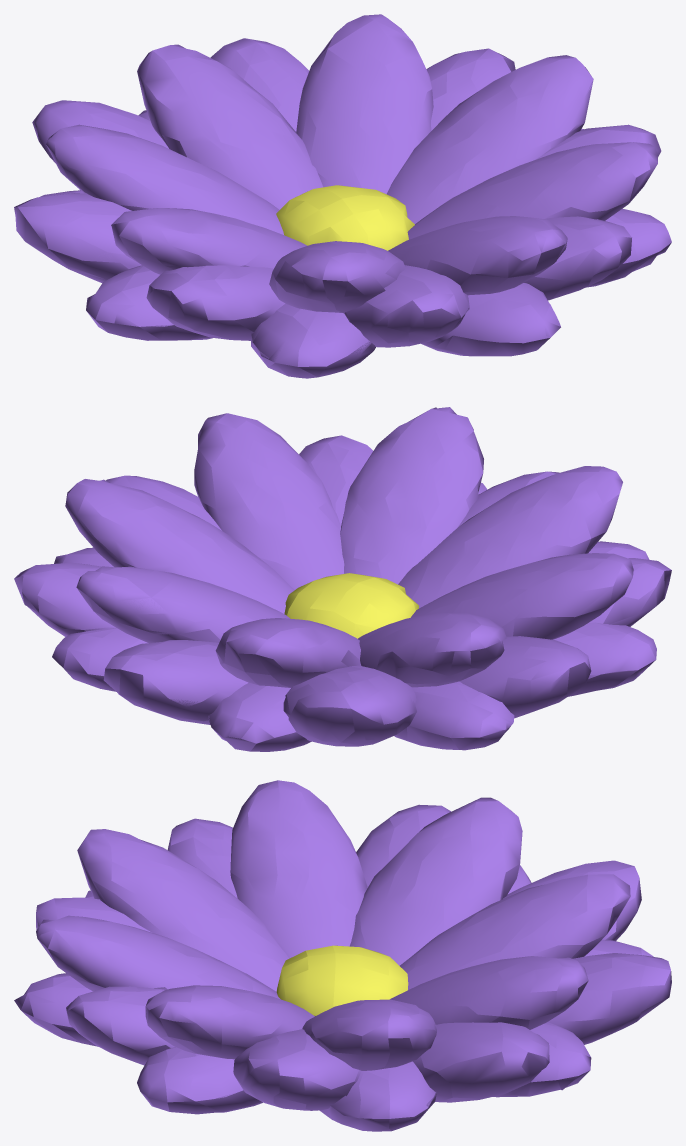
The picture shows the model from 3 angles, top to bottom: view 1: azimuth 30°, elevation 25°; view 2: azimuth 150°, elevation 25°; view 3: azimuth 270°, elevation 25°; orthographic projection. The views are drawn at different scales.
Parts seen in each view (by area): view 1: 2c146fdd; view 2: 2c146fdd; view 3: 2c146fdd.
Boxes of the visible parts, x1=… form: 2c146fdd: x1=14, y1=14, x2=671, y2=378; 2c146fdd: x1=14, y1=407, x2=671, y2=751; 2c146fdd: x1=14, y1=780, x2=671, y2=1131.
Bounding box in the file's own units: 0.0874 × 0.0236 × 0.0901.
26 materials, 26 textured.
